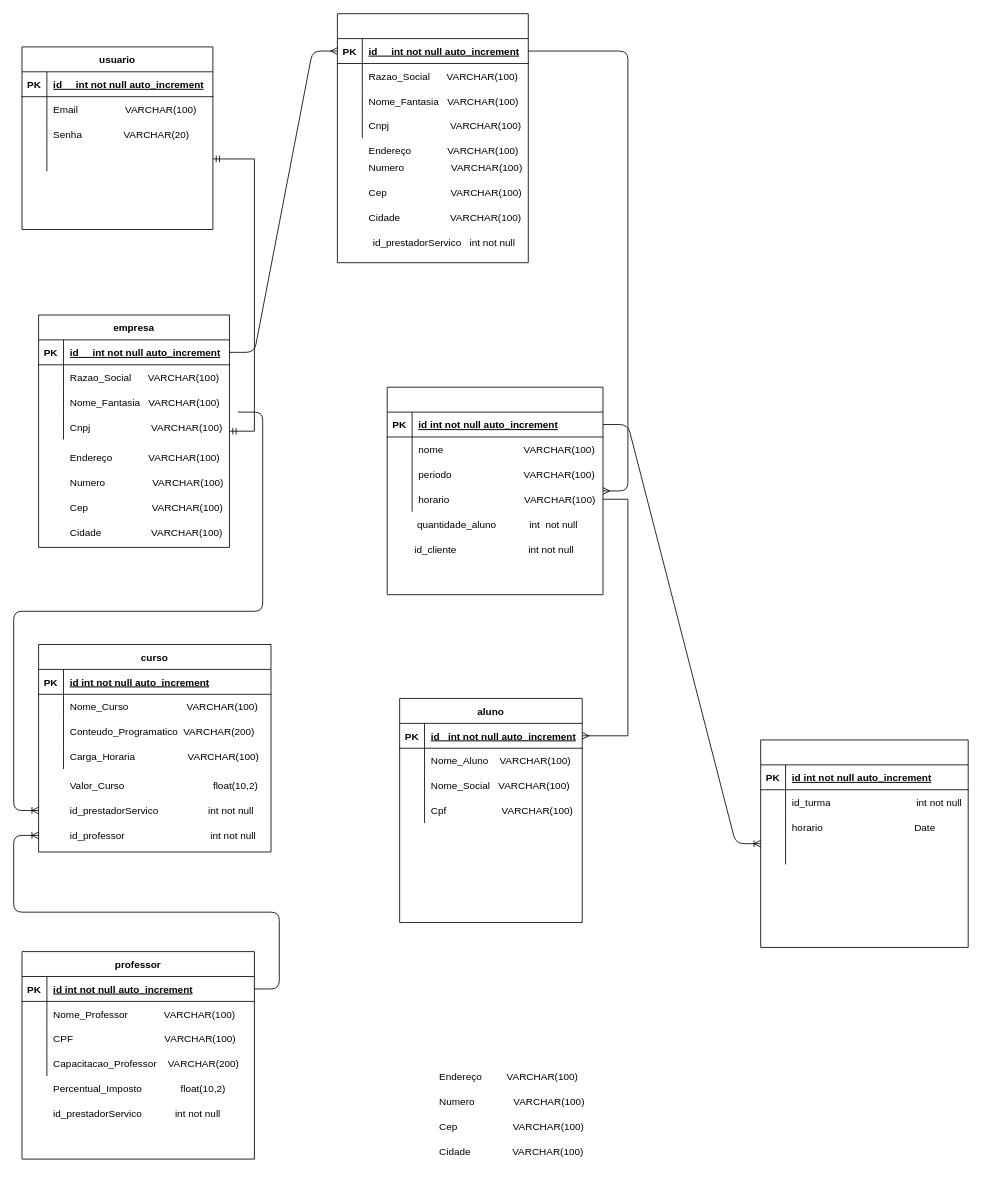
The diagram is 1003 pixels wide and 1202 high, and some of its shapes have lost their labels. The shapes that lost their labels are listed below. From the top down, each one's box as (x1, y1, x2, y2) in pixels, then its label:
(337, 13, 528, 263): cliente
(386, 386, 603, 595): turma
(760, 739, 968, 947): listaChamada
